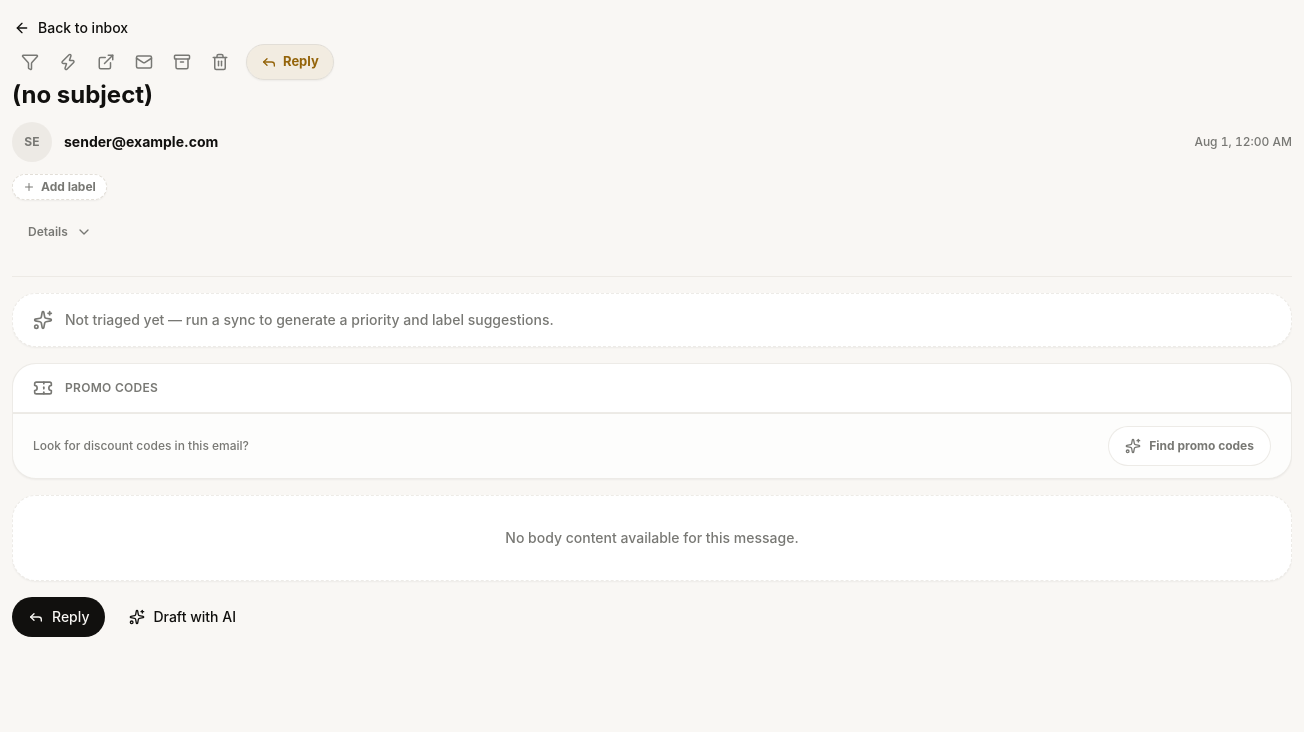
Test: attaching one › says it is still reading them while the request is in flight
Click the button "Add label": (59, 187) [12,174,107,200]
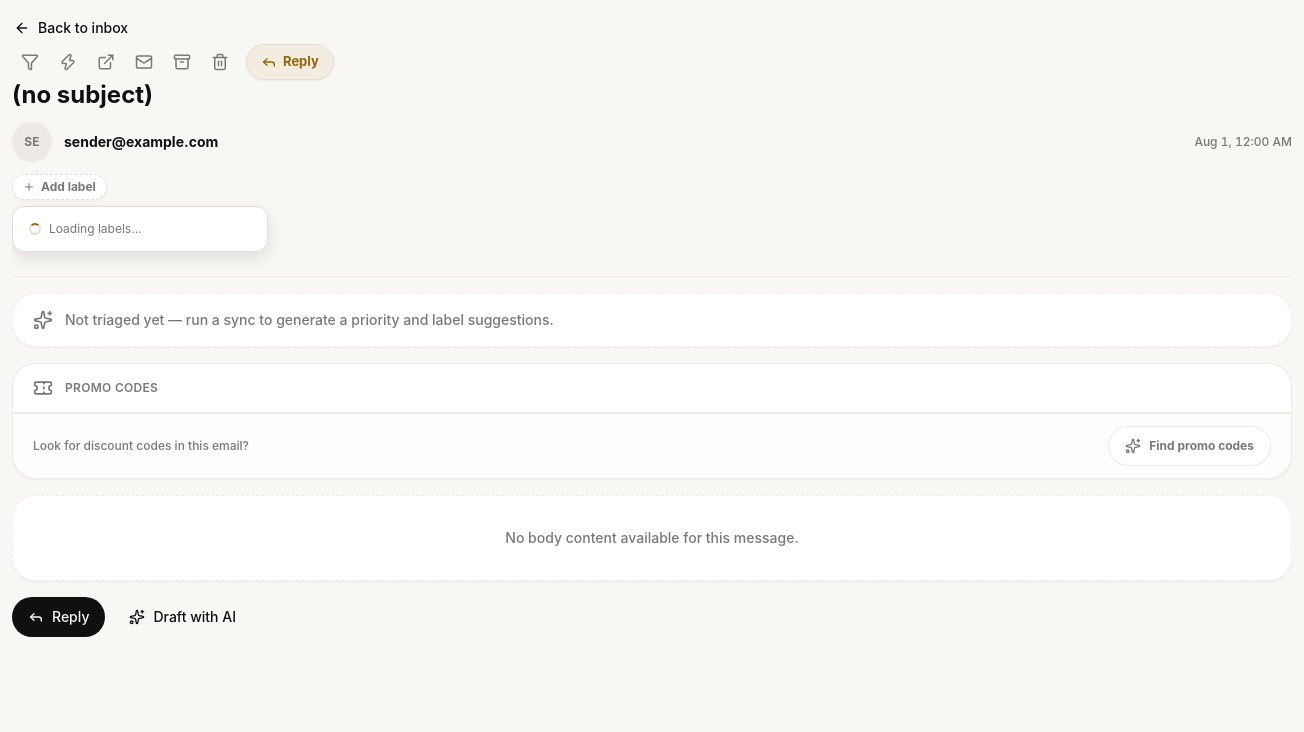
Check: the text "Loading labels…" is shown, box [29,221,142,236]
